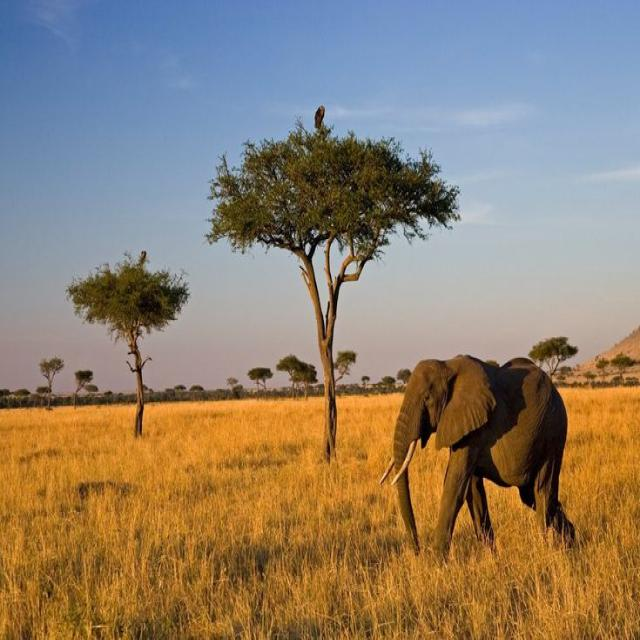Acacia: (201, 132, 394, 444), (72, 258, 192, 430)
